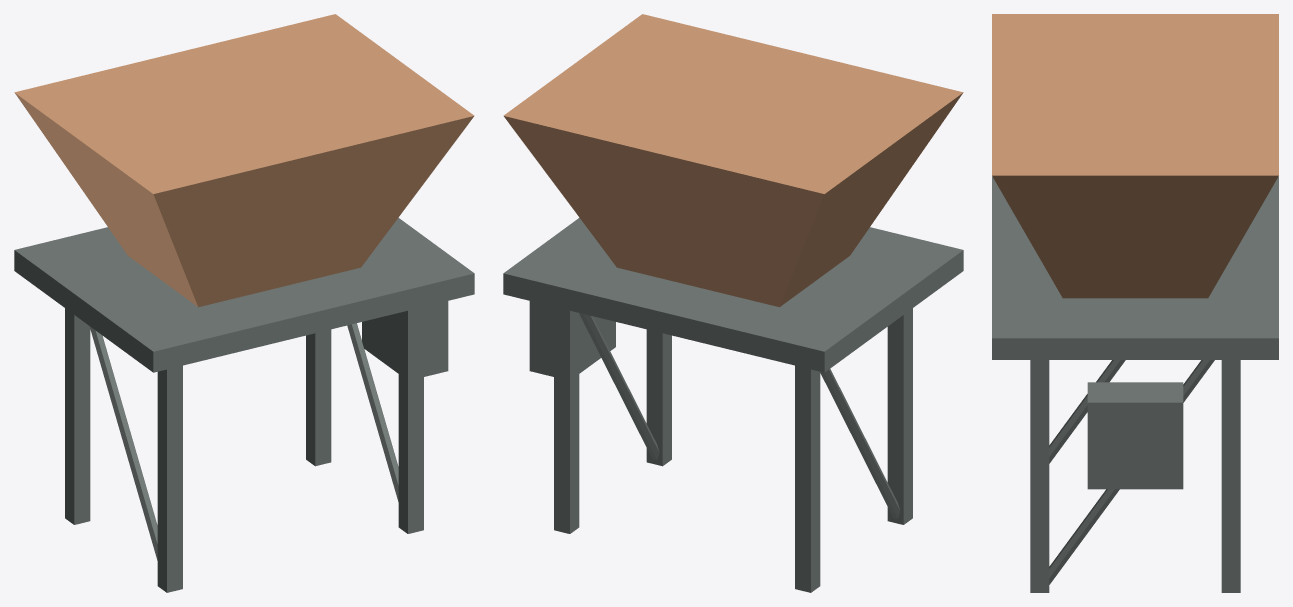
3 views of the same model, side by side, from view 1: azimuth 30°, elevation 25°; view 2: azimuth 150°, elevation 25°; view 3: azimuth 270°, elevation 25° (orthographic). The views are drawn at different scales.
Size of the model in its own units: 8.5 by 10.06 by 6.
